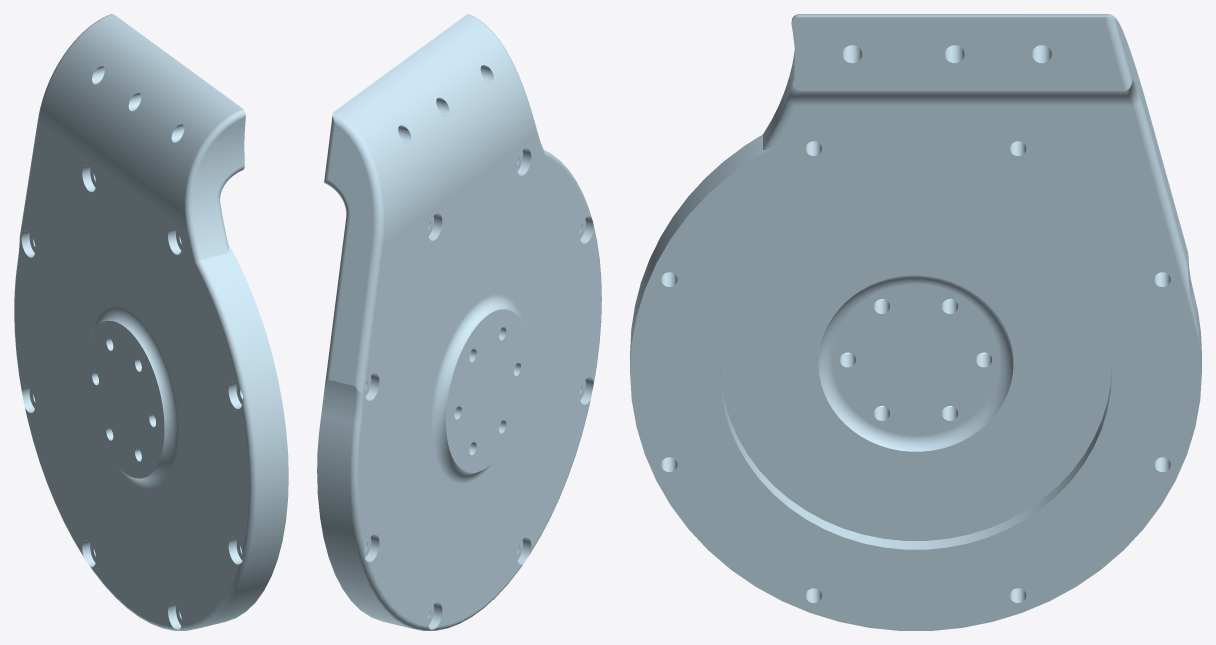
Rendered from Robot_Master Copy 1 - Part 9.gltf.
3 renders of one model, left to right at view 1: azimuth 30°, elevation 25°; view 2: azimuth 150°, elevation 25°; view 3: azimuth 270°, elevation 25°, orthographic. The views are drawn at different scales.
Parts seen in each view (by area): view 1: Part 9; view 2: Part 9; view 3: Part 9.
Part boxes in pixels (box(x1,y1,x2,y2)): Part 9: box(14, 14, 288, 630); Part 9: box(317, 14, 601, 630); Part 9: box(630, 14, 1201, 630).
Size of the model in its own units: 0.0176 by 0.1273 by 0.105.
